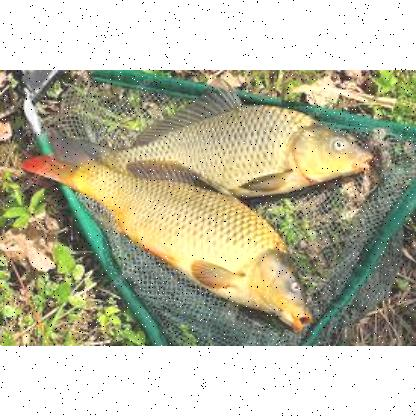ikan-mas: (25, 156, 315, 328), (86, 94, 372, 188)
